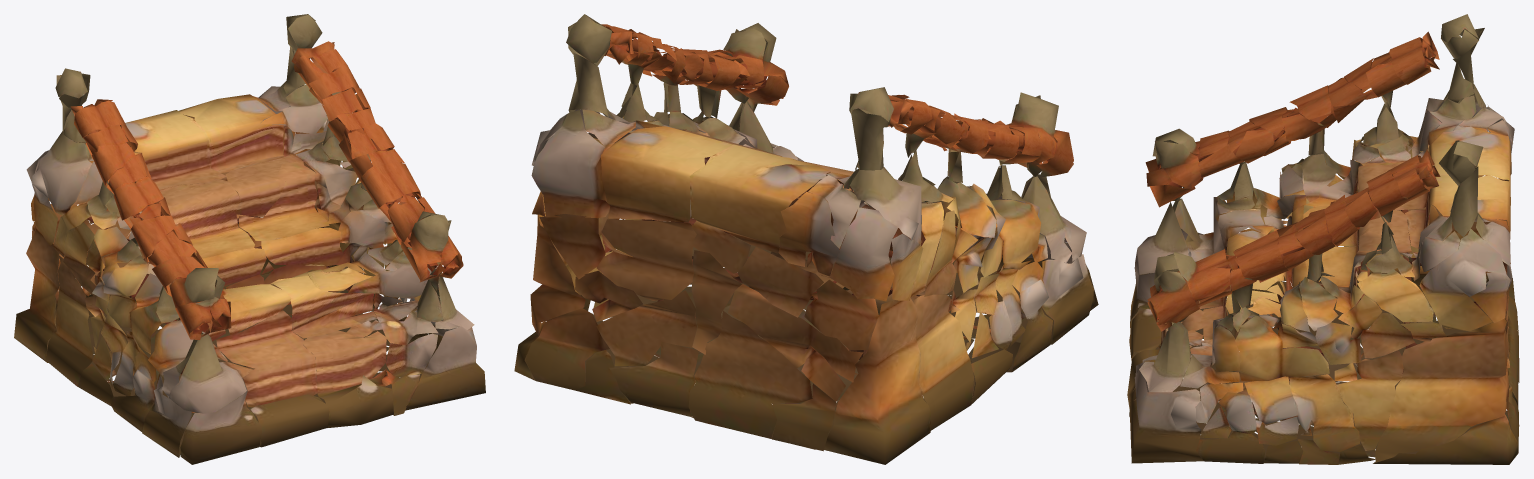
The model's file is terrain-stairs-wafer-ramp.glb.
The picture shows the model from 3 angles, left to right: view 1: azimuth 30°, elevation 25°; view 2: azimuth 150°, elevation 25°; view 3: azimuth 270°, elevation 25°; orthographic projection. The views are drawn at different scales.
Visible parts, largest first — view 1: Mesh_0; view 2: Mesh_0; view 3: Mesh_0.
Boxes of the visible parts, box(x1,y1,x2,y2) form: Mesh_0: box(14, 14, 485, 464); Mesh_0: box(514, 14, 1098, 464); Mesh_0: box(1127, 14, 1519, 464).
Bounding box in the file's own units: 1.35 × 1.18 × 1.36.
1 material, 1 textured.
